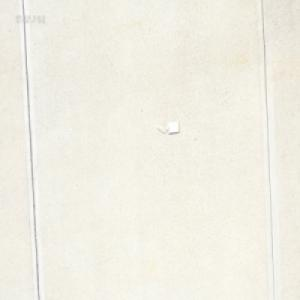LuggageTag: (155, 119, 179, 136)
